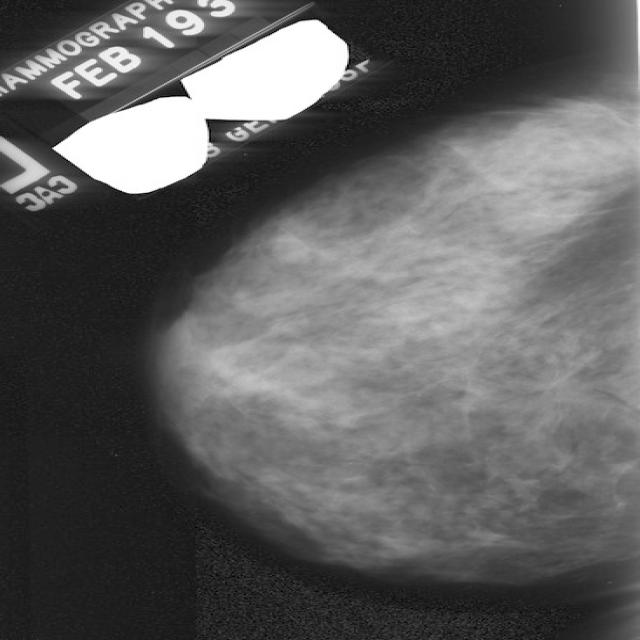tumour: (518, 365, 588, 407)
